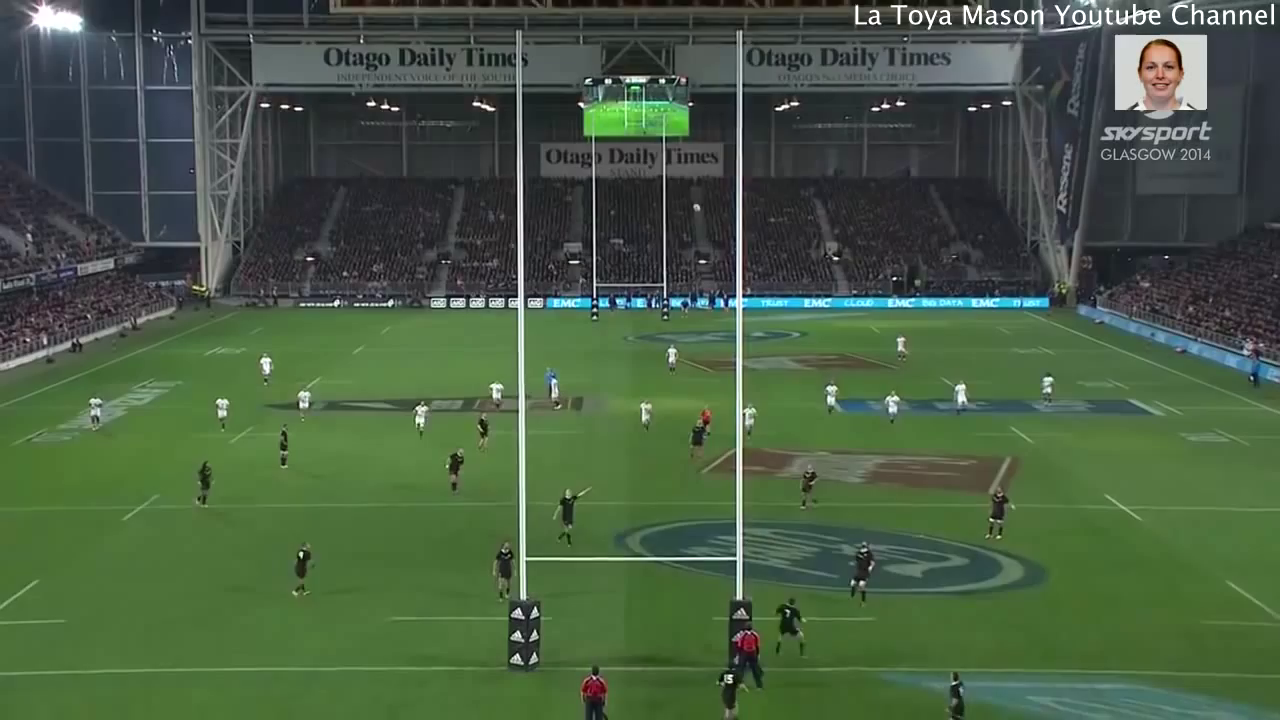10_metre: (1171, 419, 1278, 455), (190, 417, 307, 449), (971, 422, 1079, 450), (1, 421, 84, 455), (278, 366, 357, 395)
player: (544, 476, 601, 555), (838, 535, 883, 610), (728, 616, 768, 699), (769, 590, 813, 664), (480, 532, 518, 612), (976, 483, 1019, 549), (283, 535, 321, 608), (570, 661, 616, 720), (710, 659, 752, 720), (936, 665, 976, 720), (438, 442, 472, 499), (190, 456, 220, 514), (795, 458, 826, 512), (683, 416, 709, 467), (407, 395, 433, 445), (273, 418, 295, 477), (742, 393, 765, 447), (470, 408, 494, 458), (545, 369, 568, 418), (816, 374, 841, 419), (290, 384, 316, 427), (1037, 366, 1060, 414), (483, 372, 508, 416), (255, 346, 277, 395), (880, 386, 905, 428), (208, 390, 232, 433), (540, 358, 561, 407), (694, 400, 716, 441), (83, 392, 103, 435), (636, 396, 658, 433), (951, 376, 969, 417), (663, 342, 682, 378), (892, 331, 911, 364)
post: (492, 18, 763, 681), (579, 103, 680, 329)
